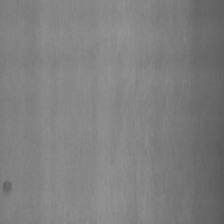oil_spot: (2, 176, 13, 199)
